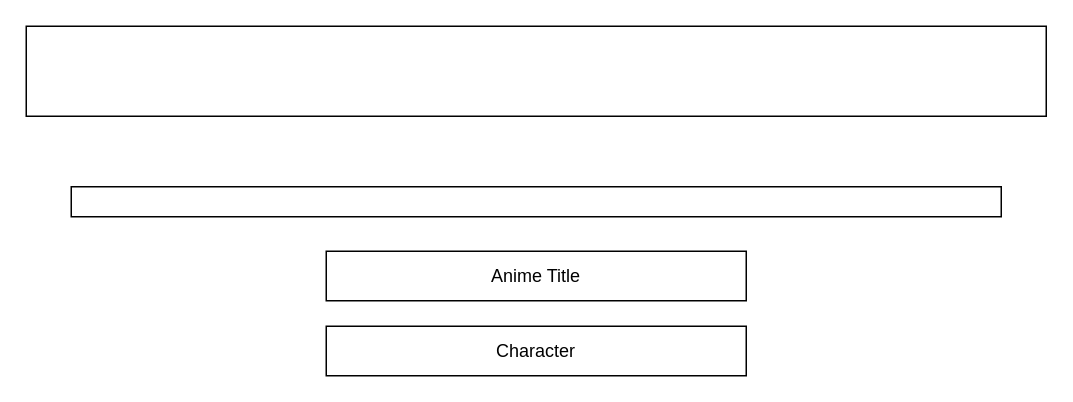
Image size: 1073x402. Some labels were removed from this diagram. Here are the shapes that lost their labels. From the top down, the centre of each, then its label:
At point 535,70: "Header/Navbar".
At point 535,201: "Quote".
